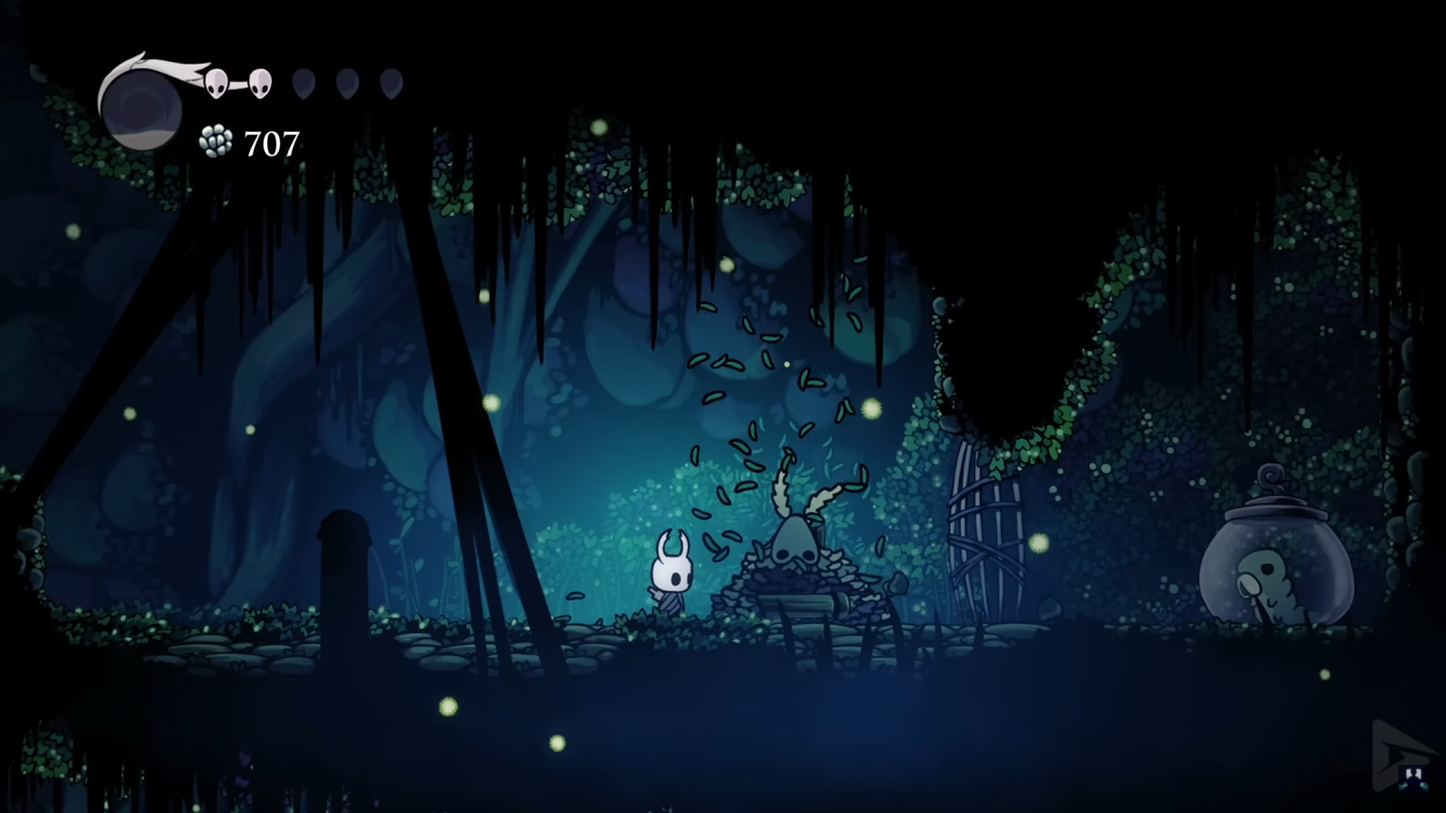HK: (641, 525, 699, 620)
